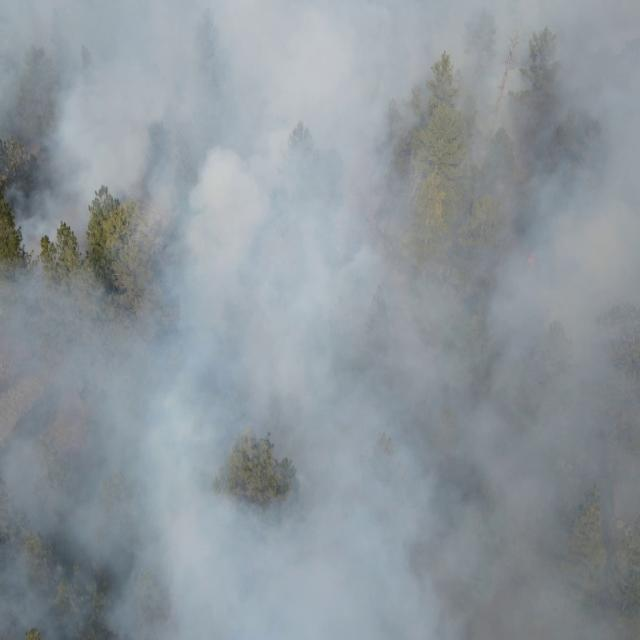fire: (525, 252, 542, 266)
smoke: (0, 0, 640, 640)
